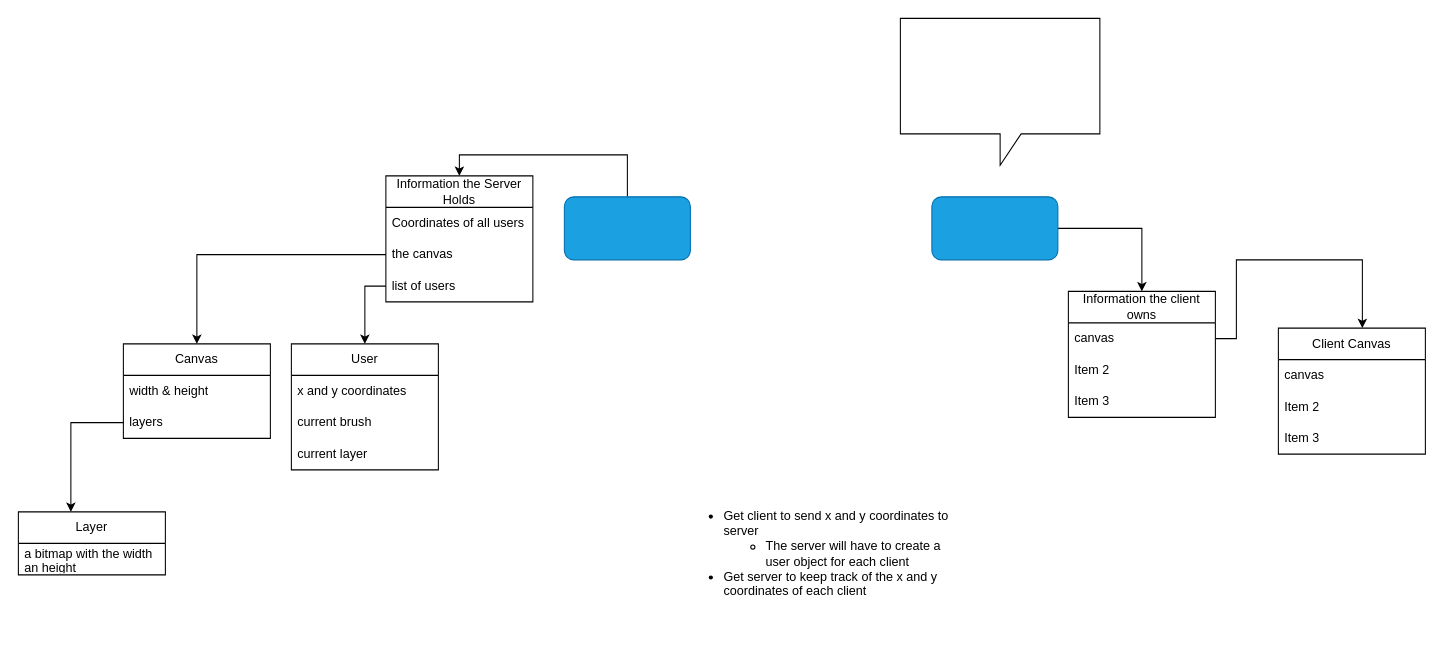
This 1444x646 diagram has some shape labels left out. Here are the shapes that lost their labels. From the top down, the centre of each, then its label:
(x=999, y=91): The server and client communicate through socket IO
(x=626, y=228): Server
(x=994, y=228): Client
